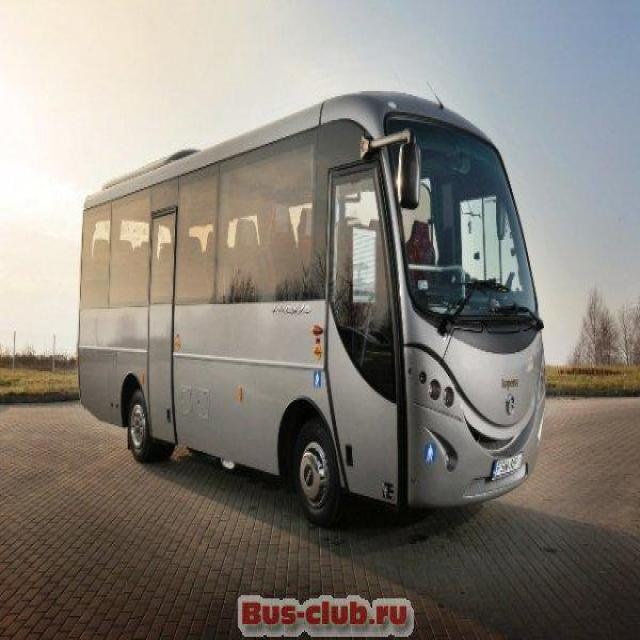Bus: (73, 88, 550, 538)
